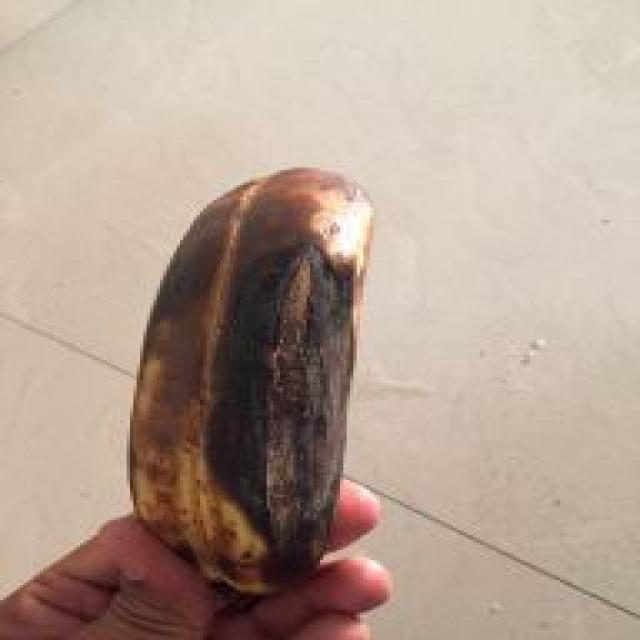Rotten: (105, 130, 402, 618)
